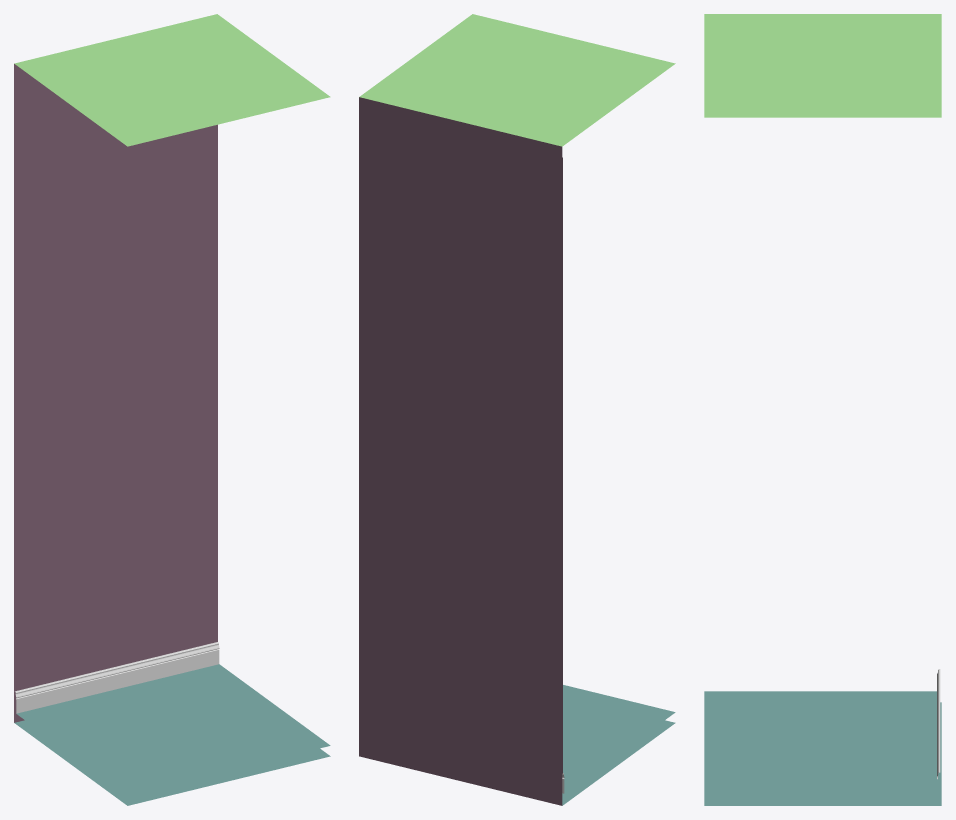
File: Room_wall_1x1_side.fbx
3 views of the same model, side by side, from view 1: azimuth 30°, elevation 25°; view 2: azimuth 150°, elevation 25°; view 3: azimuth 270°, elevation 25° (orthographic). The views are drawn at different scales.
Parts seen in each view (by area): view 1: Wall_1x1_side; view 2: Wall_1x1_side; view 3: Wall_1x1_side.
Part boxes in pixels (x1,y1,x2,y2): Wall_1x1_side: [14, 14, 330, 805]; Wall_1x1_side: [359, 14, 675, 805]; Wall_1x1_side: [704, 14, 941, 805].
Size of the model in its own units: 1 by 3.1 by 0.9675.
